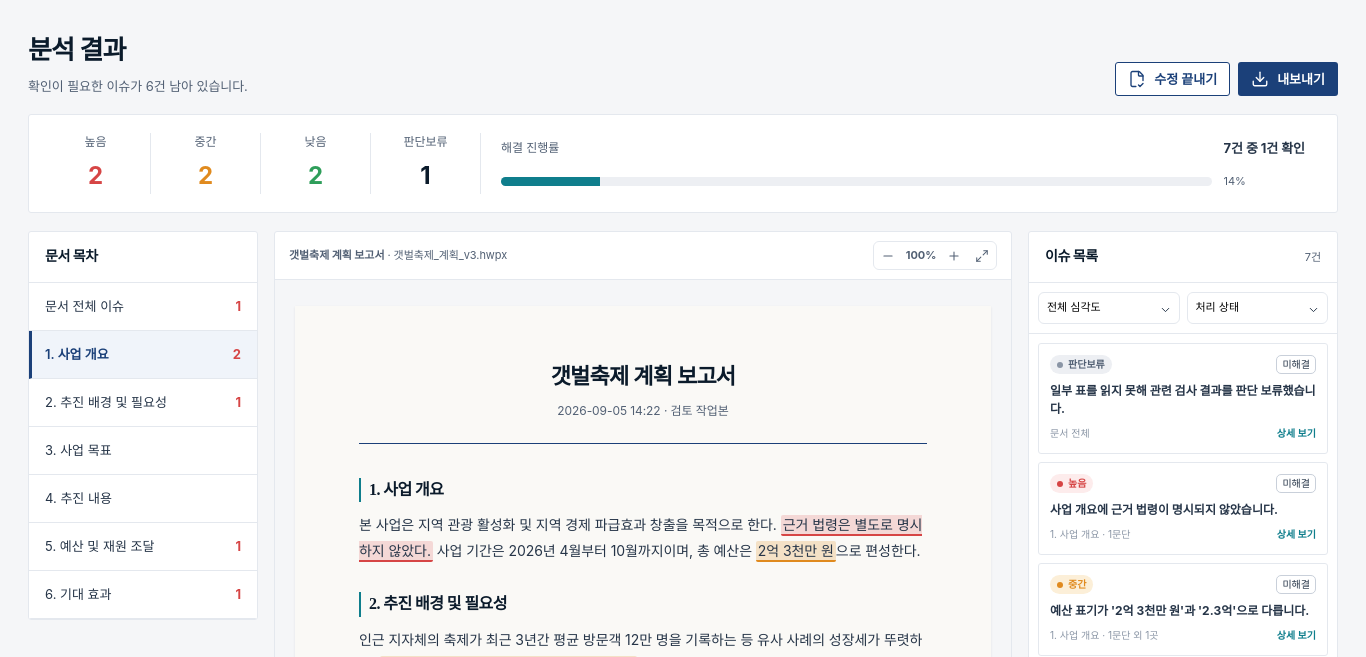
ResultPage document view › 내보내기 버튼 아래에서 메뉴를 열고 배경을 가리지 않는다
Click the button "내보내기".
click(1288, 79)  # box [1238,62,1338,96]
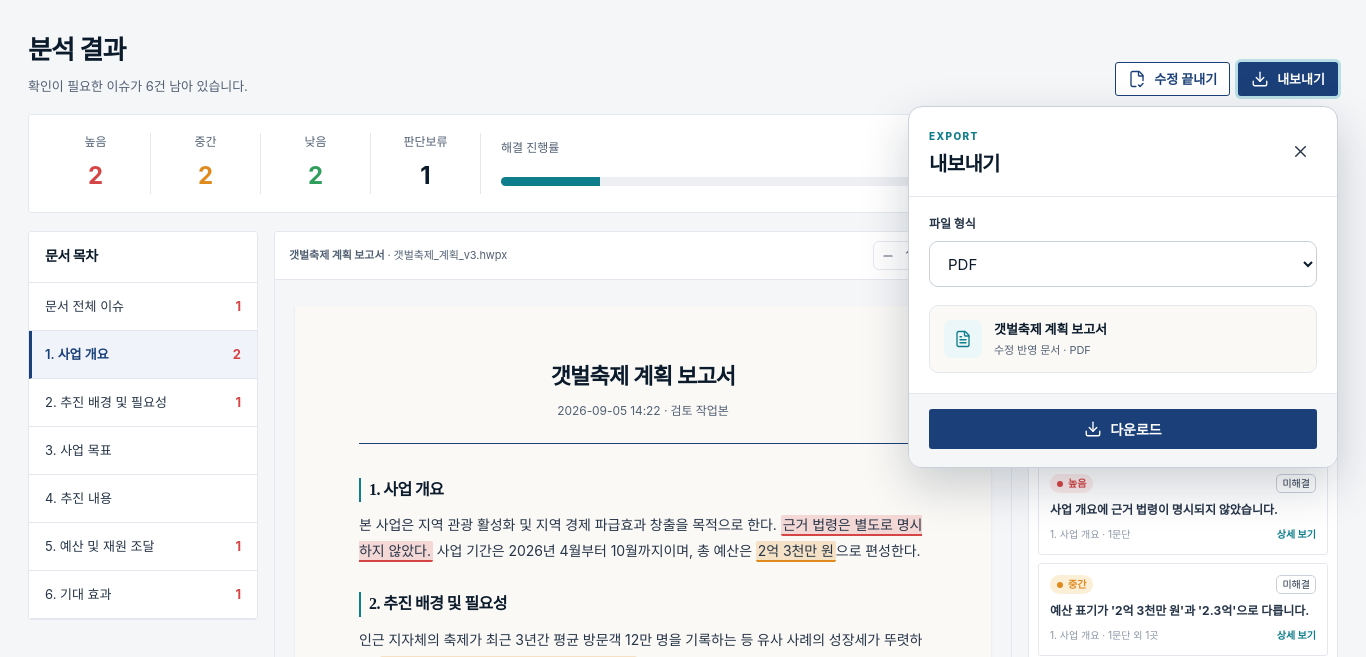
Expected: the dialog named "내보내기 메뉴" is shown, [908,106,1338,468]
Expected: the dropdown labelled "파일 형식" shows "PDF", [929,241,1317,287]
